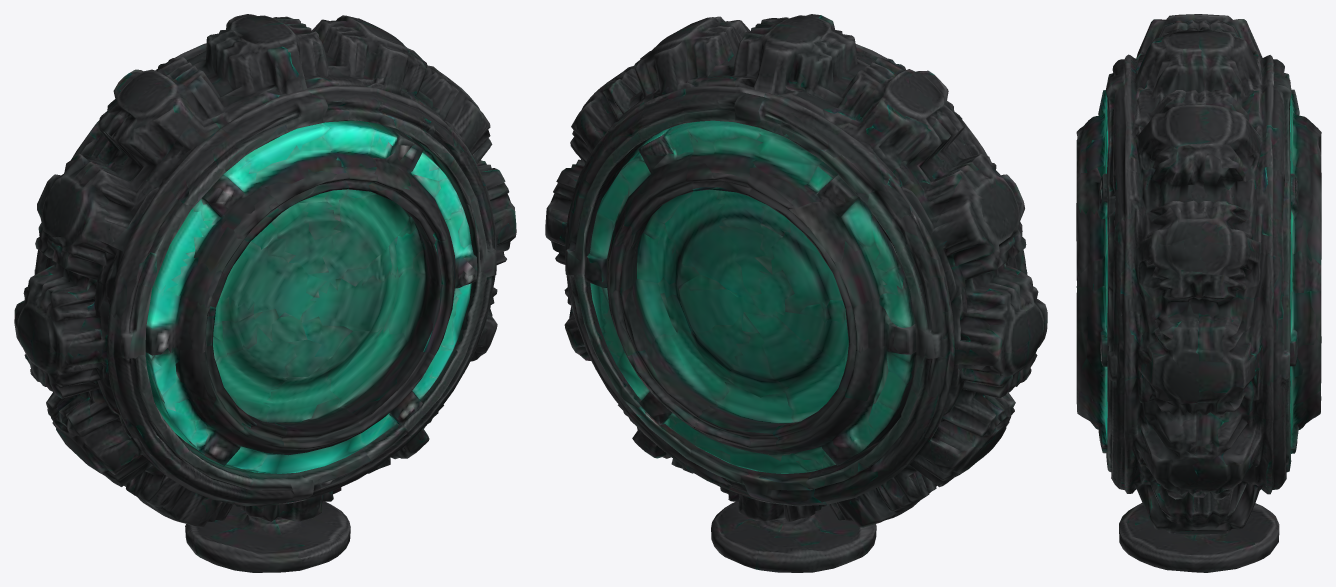
The model's file is pickup-repair.glb.
3 views of the same model, side by side, from view 1: azimuth 30°, elevation 25°; view 2: azimuth 150°, elevation 25°; view 3: azimuth 270°, elevation 25° (orthographic). The views are drawn at different scales.
Bounding box in the file's own units: 1.79 × 1.9 × 0.8349.
Materials: 1 (1 with a texture image).
